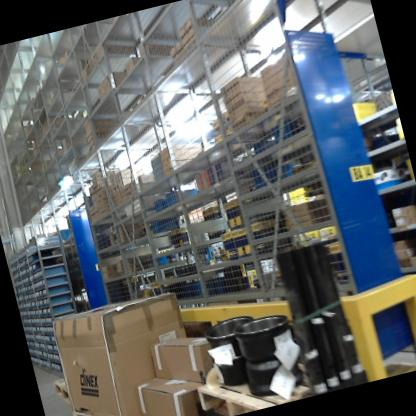pallet: (191, 350, 348, 416), (121, 393, 195, 416), (67, 391, 135, 416), (50, 372, 83, 412)
